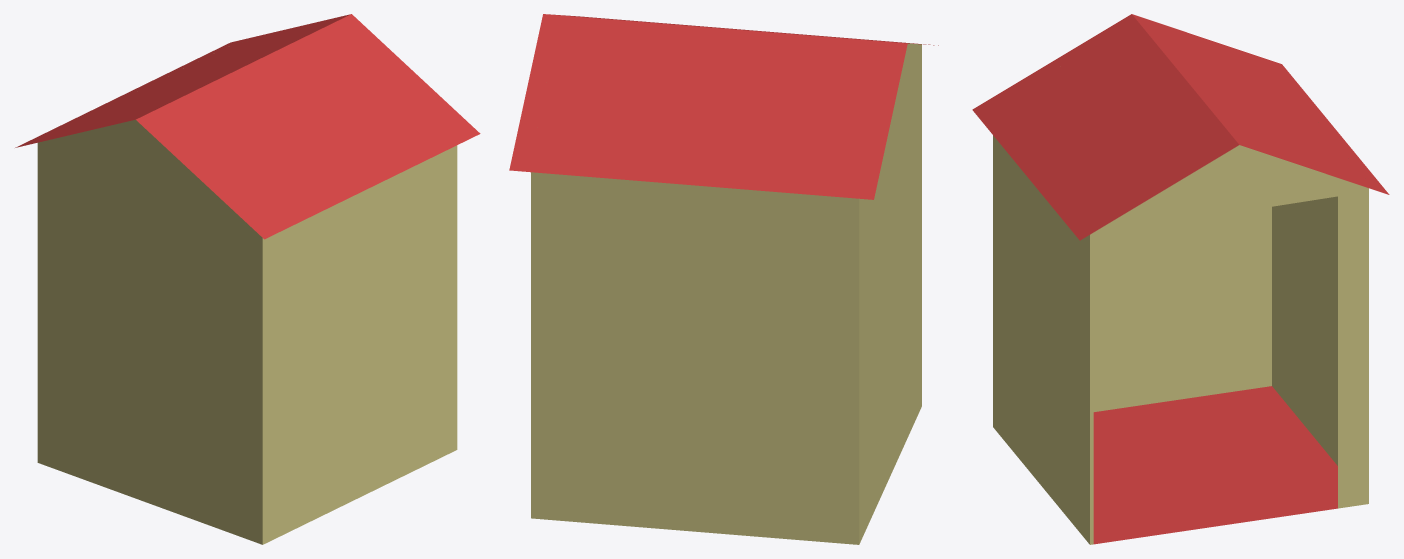
3 renders of one model, left to right at view 1: azimuth 30°, elevation 25°; view 2: azimuth 150°, elevation 25°; view 3: azimuth 270°, elevation 25°, orthographic. The views are drawn at different scales.
Size of the model in its own units: 12.75 by 12.75 by 12.98.
